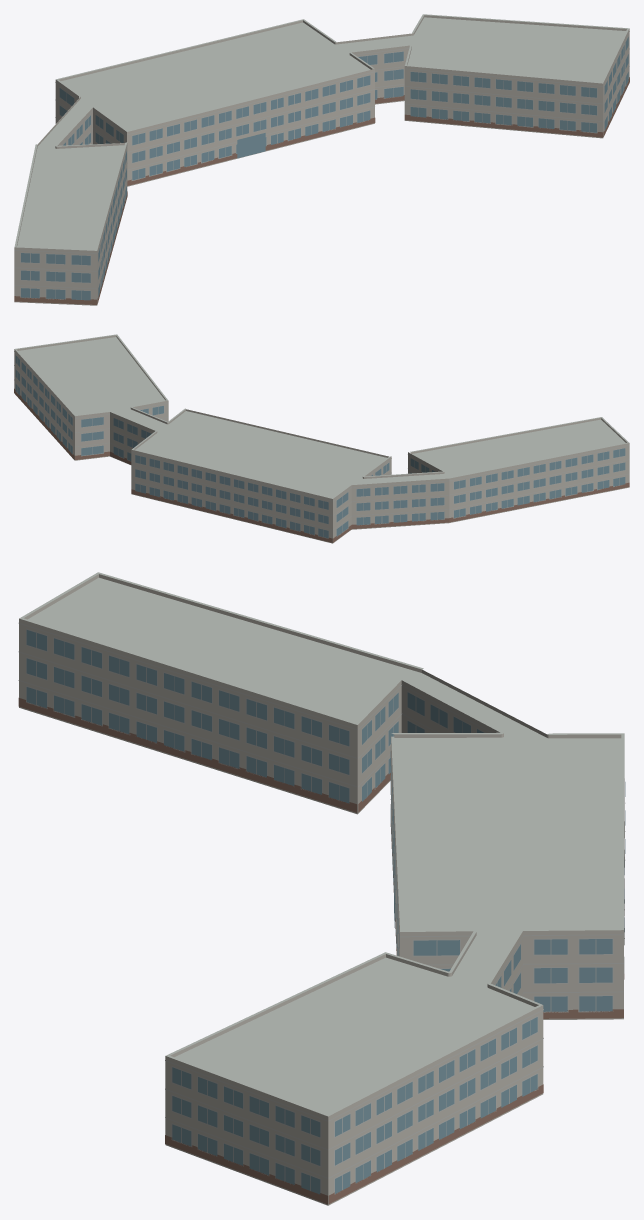
Rendered from public-31218c8c-def4-430c-9653-f3b88d811f97.glb.
3 views of the same model, one above another, from view 1: azimuth 30°, elevation 25°; view 2: azimuth 150°, elevation 25°; view 3: azimuth 270°, elevation 25° (orthographic). The views are drawn at different scales.
Visible parts, largest first — view 1: public-31218c8c-def4-430c-9653-f3b88d811f97; view 2: public-31218c8c-def4-430c-9653-f3b88d811f97; view 3: public-31218c8c-def4-430c-9653-f3b88d811f97.
Boxes of the visible parts, left/top/right/bottom form: public-31218c8c-def4-430c-9653-f3b88d811f97: left=14, top=14, right=629, bottom=305; public-31218c8c-def4-430c-9653-f3b88d811f97: left=14, top=334, right=629, bottom=543; public-31218c8c-def4-430c-9653-f3b88d811f97: left=18, top=572, right=625, bottom=1205.
Bounding box in the file's own units: 120 × 9.15 × 56.39.
